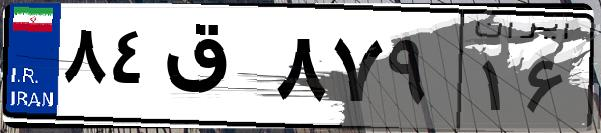1: (475, 38, 525, 113)
4: (110, 28, 158, 98)
6: (525, 38, 570, 115)
7: (330, 28, 385, 110)
8: (270, 28, 330, 110), (57, 26, 110, 100)
9: (385, 28, 445, 110)
ق: (158, 20, 270, 120)
